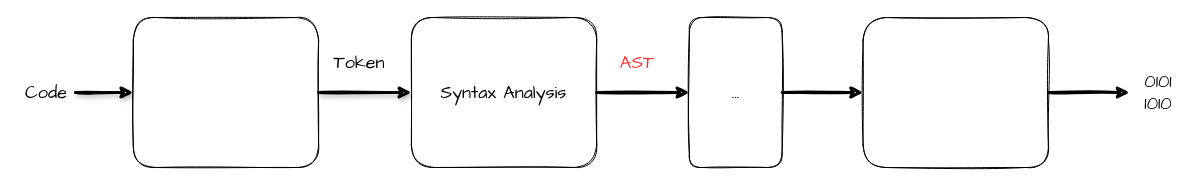
Image size: 1204x185. Some labels were removed from this diagram. The centre of each missing label's shape, as x and y in pixels:
"Code Generation" belongs at (x=955, y=92).
"Lexical Analysis" belongs at (x=225, y=92).
